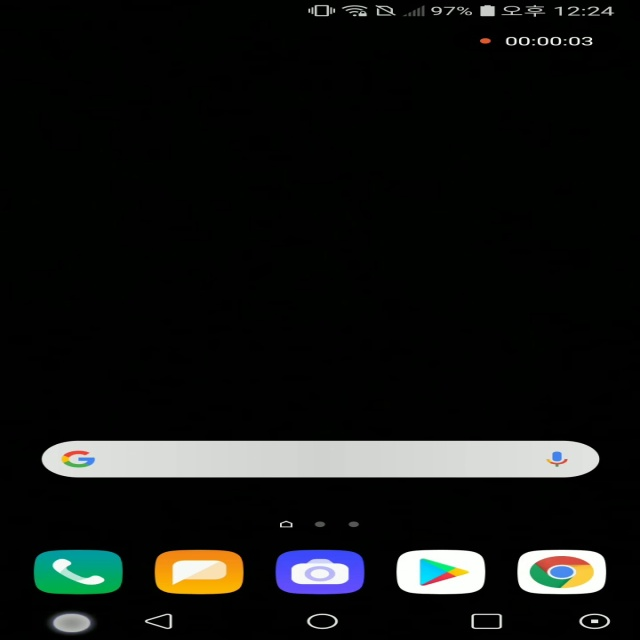Cursor: (50, 612, 95, 634)
